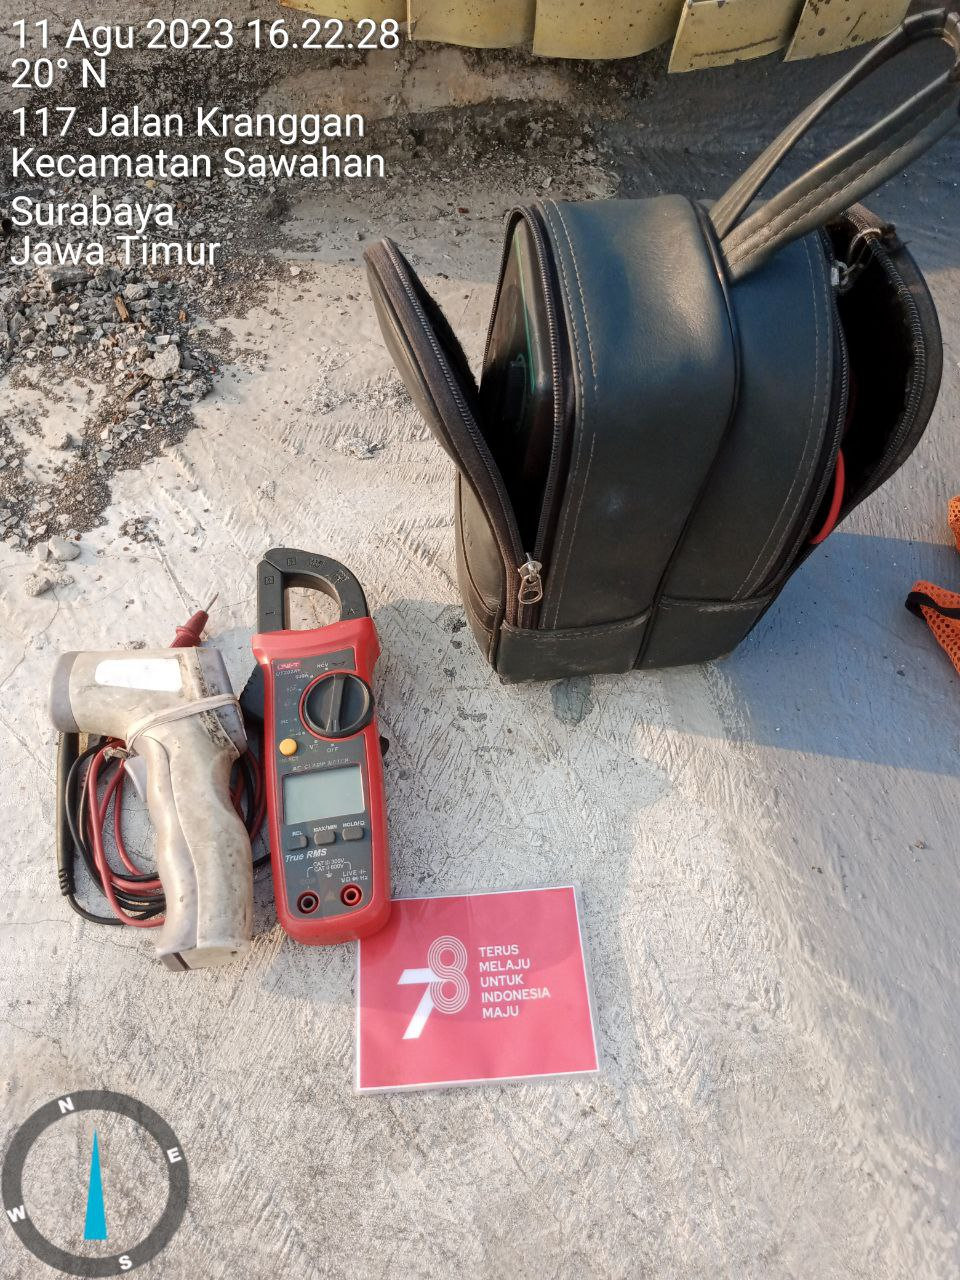TANG_AMPERE: (241, 545, 404, 943)
